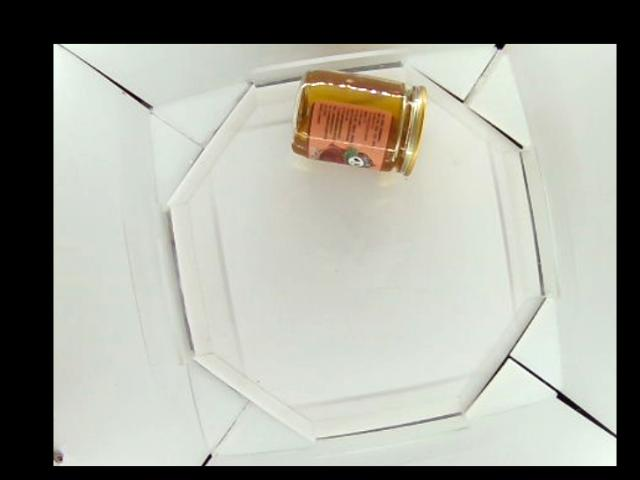Bottle: (291, 66, 429, 177)
